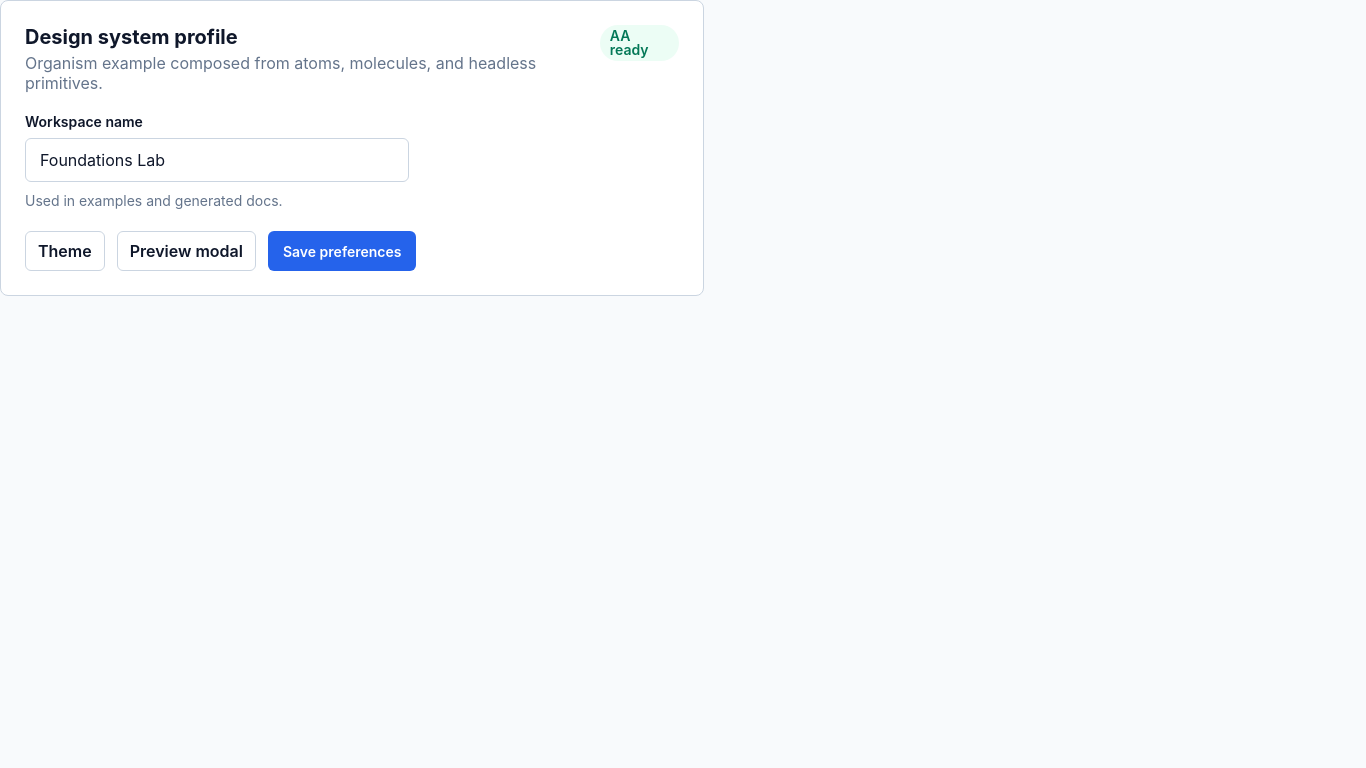
Scenario: component composition flows › drives the PreferencesPanel organism from nested primitives
The image size is (1366, 768).
Click the button "Theme": click(65, 251) [25,231,105,271]
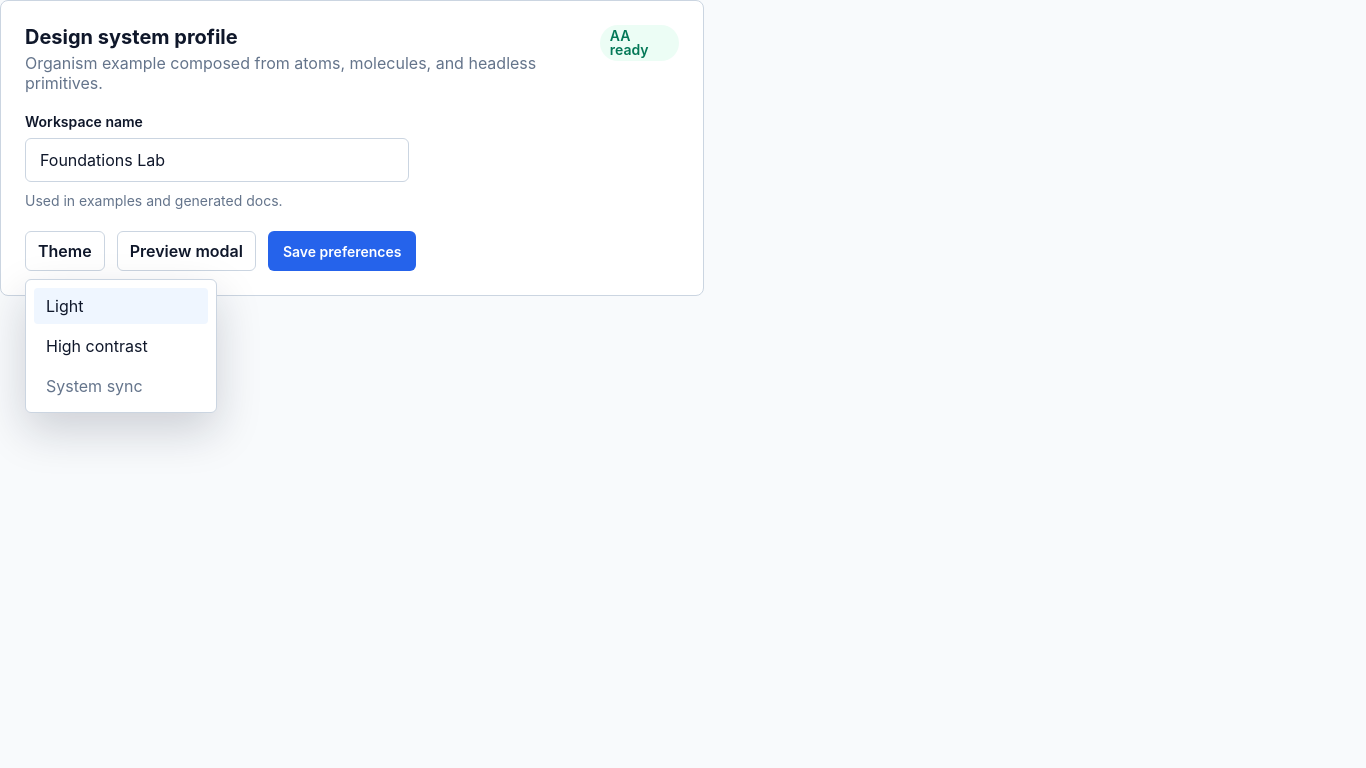
Click the menu item "High contrast": click(121, 346) [34,328,208,364]
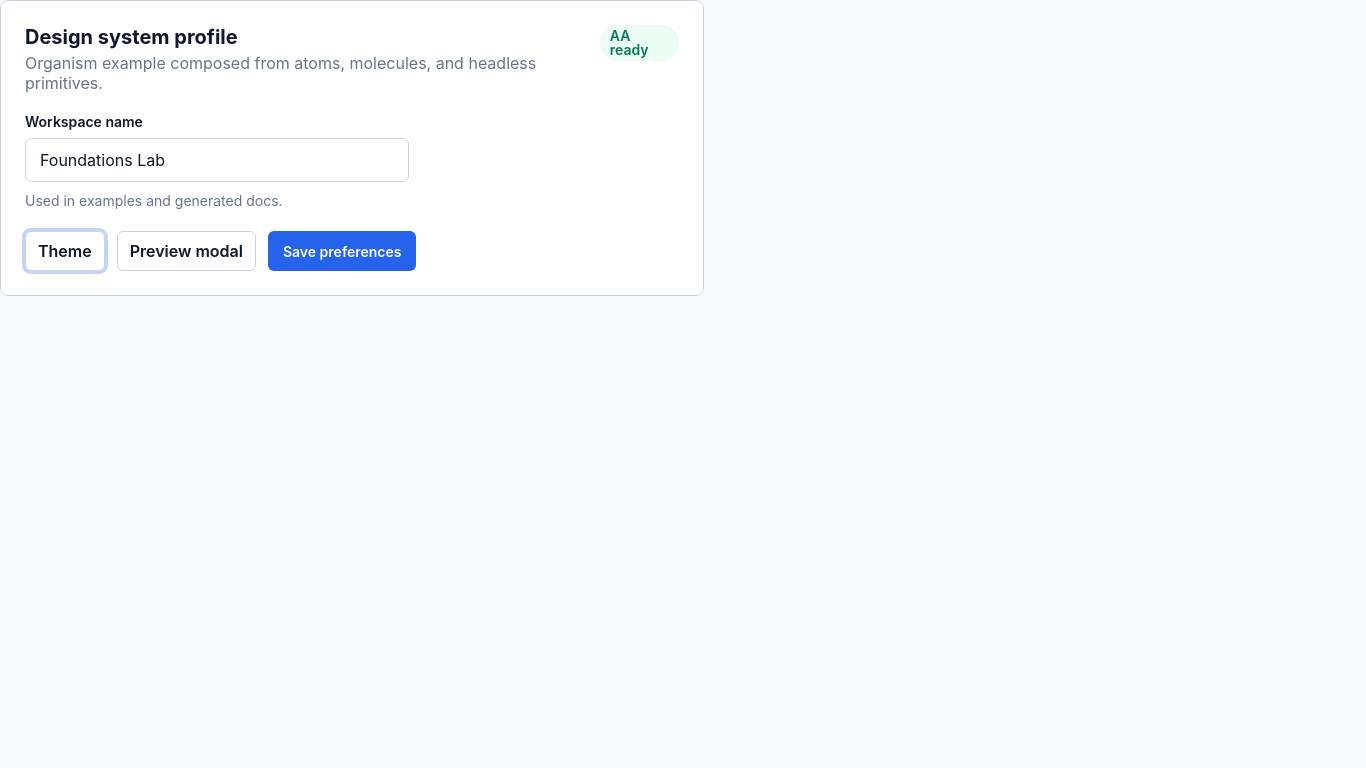
Now the menu is gone
Click the button "Preview modal": click(186, 251) [117,231,256,271]
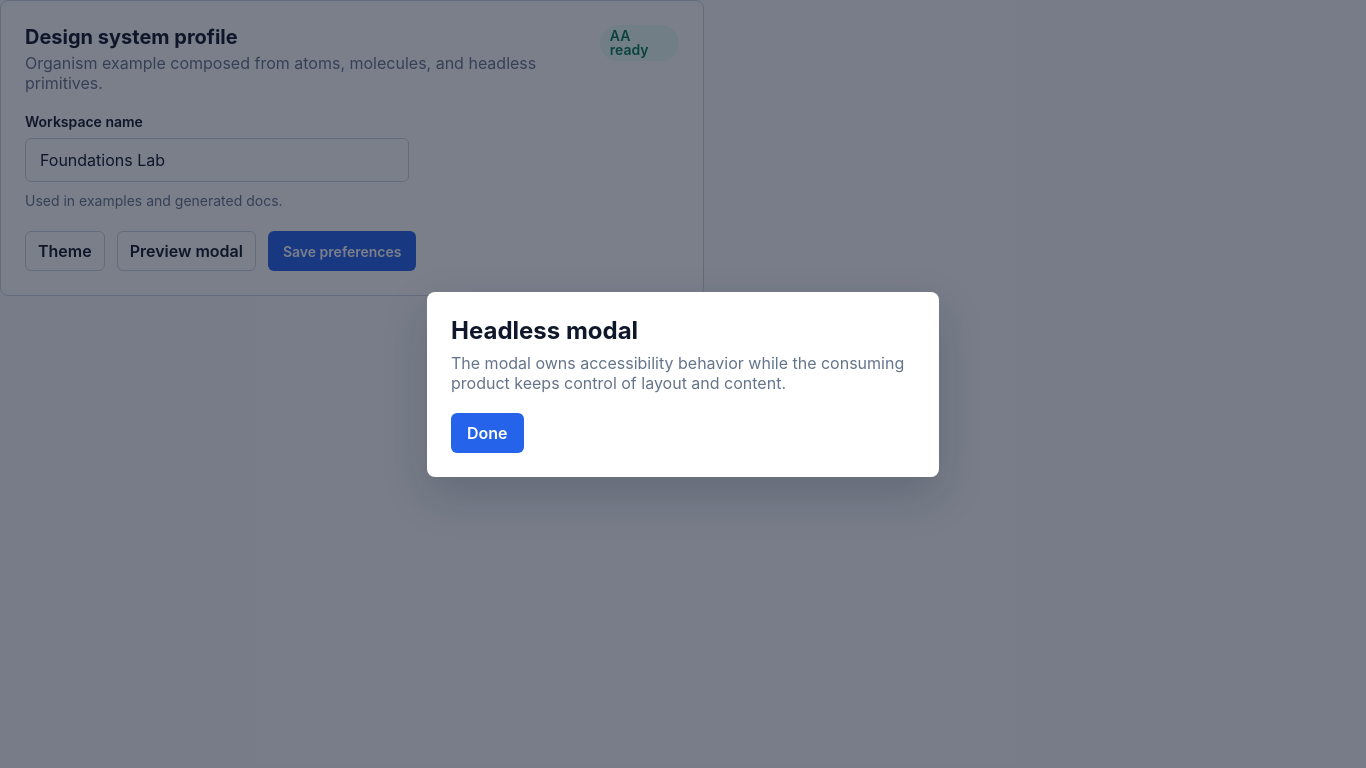
Click the button "Done": click(487, 432) [451,412,524,452]
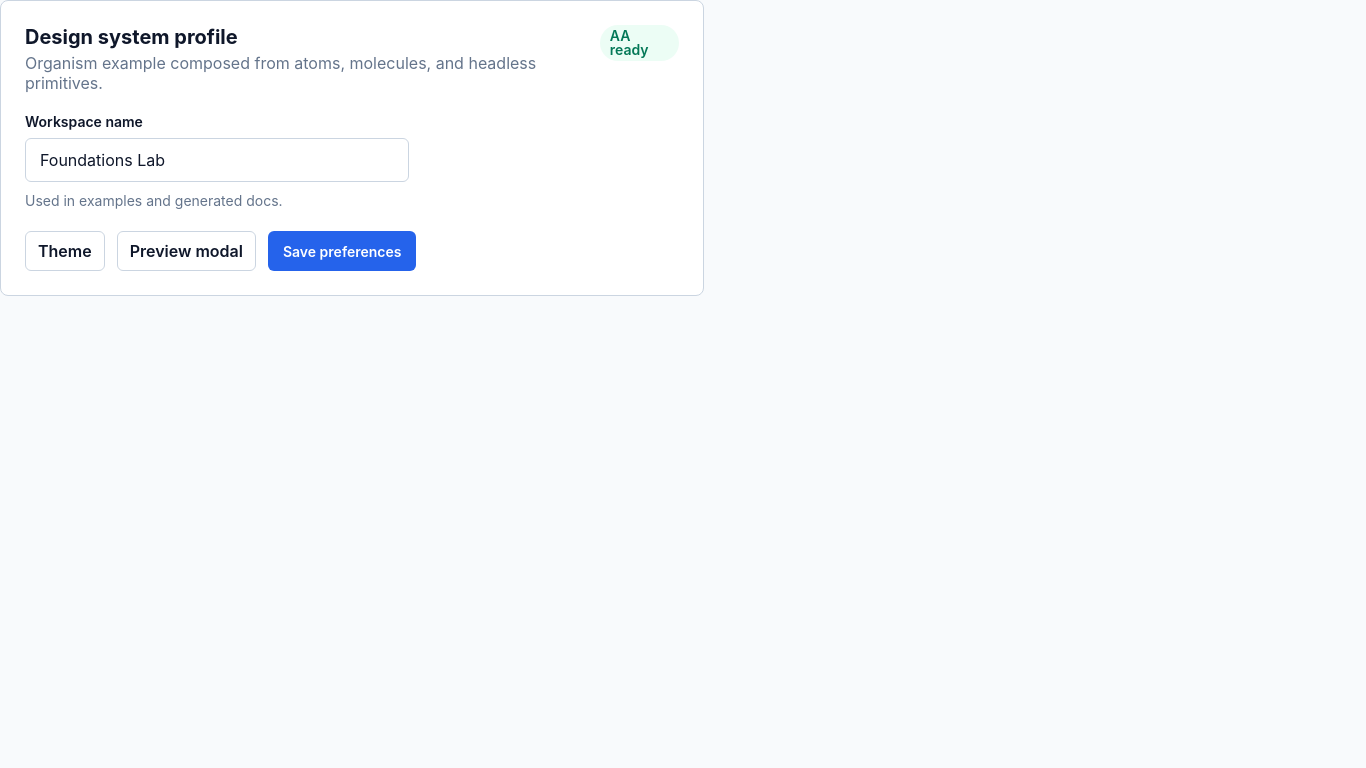
Now the dialog is gone
